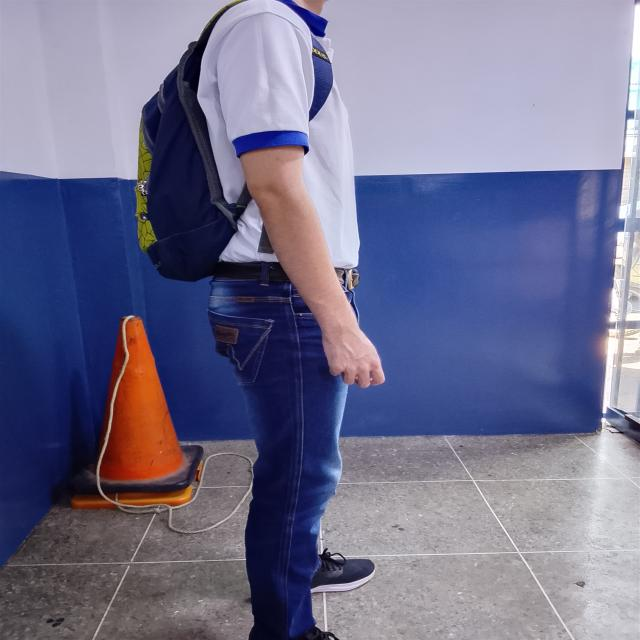pantalon_oscuro: (206, 272, 361, 640)
uniforme_superior: (196, 0, 362, 269)
